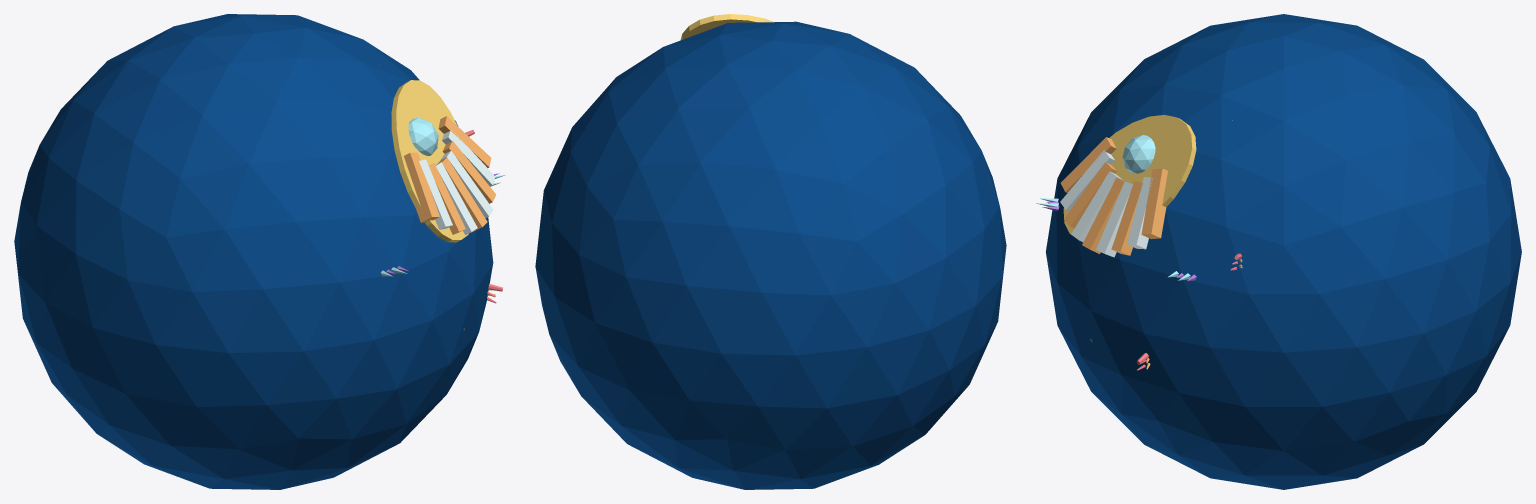
The model's file is Ocean_08.fbx.
3 views of the same model, side by side, from view 1: azimuth 30°, elevation 25°; view 2: azimuth 150°, elevation 25°; view 3: azimuth 270°, elevation 25° (orthographic).
Visible parts, largest first — view 1: Ocean_08; view 2: Ocean_08; view 3: Ocean_08.
Boxes of the visible parts, x1,y1,x2,y2 form: Ocean_08: (14,14,505,489); Ocean_08: (535,14,1006,489); Ocean_08: (1036,14,1521,489).
Bounding box in the file's own units: 6 × 6 × 6.14.
Materials: 1 (1 with a texture image).
